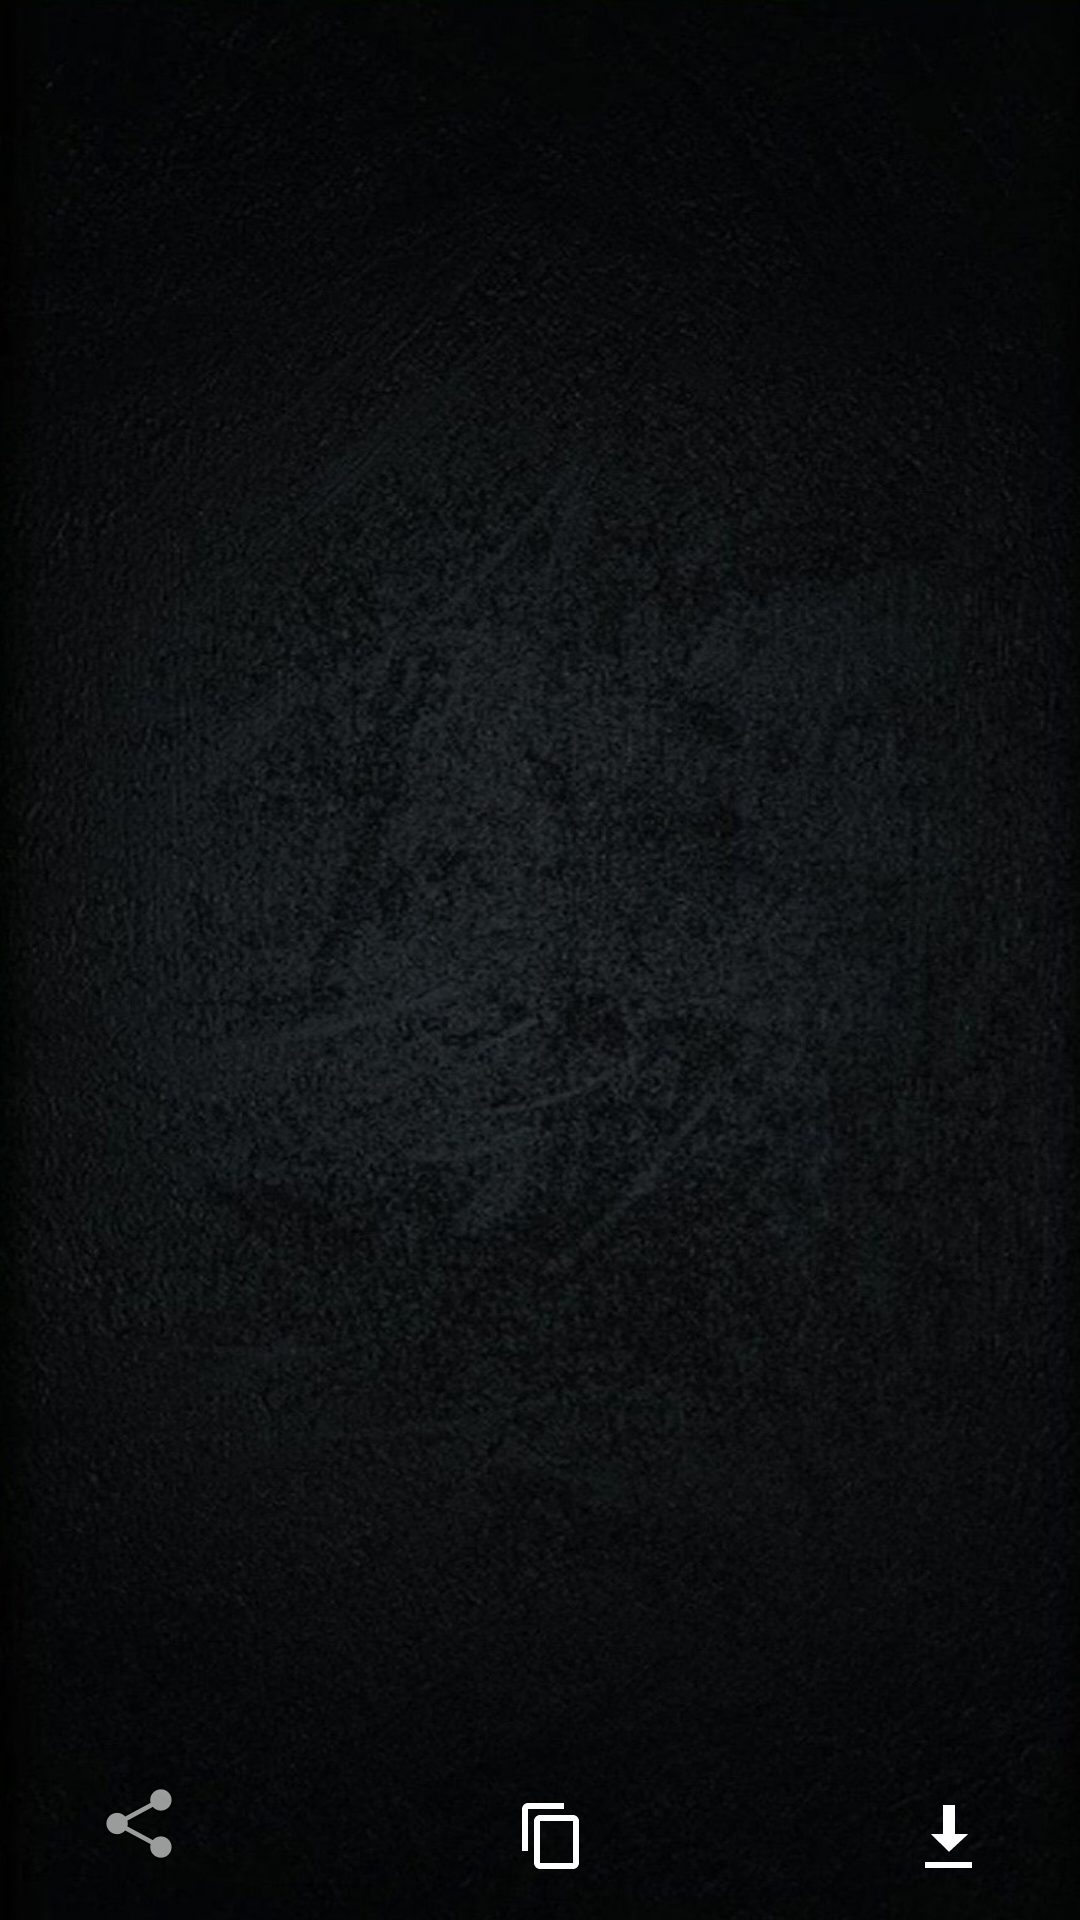

Icon bounding boxes for this 1080 x 1920 phone screenshot, format bbox=(x1, y1, x2, y2):
This is copy icon: bbox=(522, 1803, 579, 1869)
This is download icon: bbox=(925, 1805, 972, 1868)
This is share icon: bbox=(106, 1789, 172, 1858)
